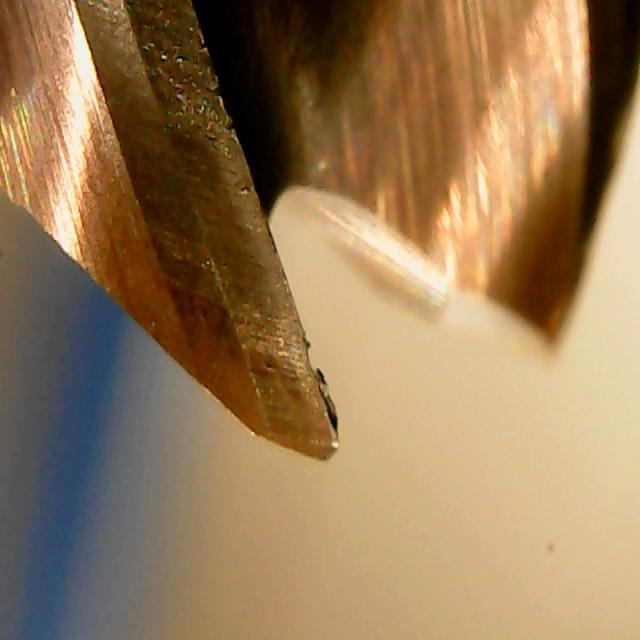Tool-wear-class-1: (184, 253, 378, 465)
